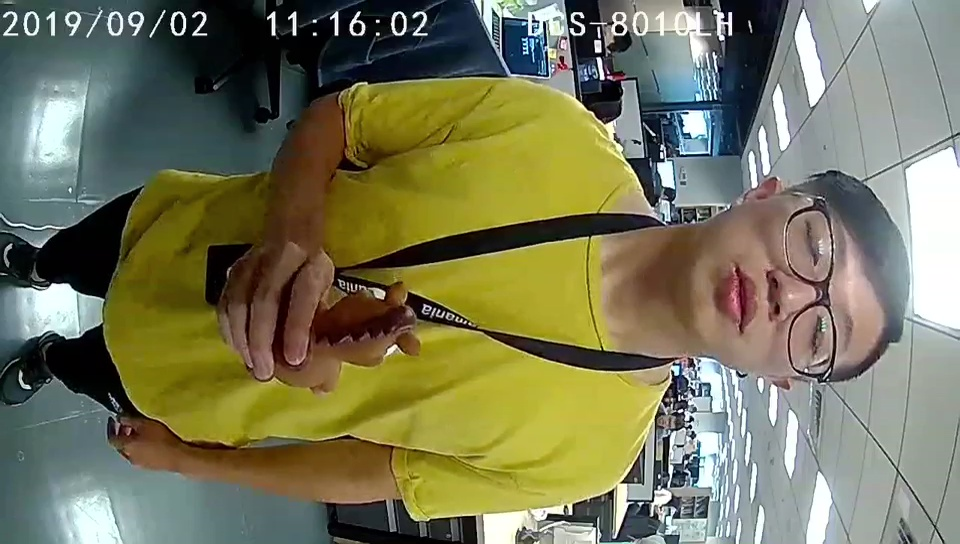horse: (277, 291, 420, 389)
